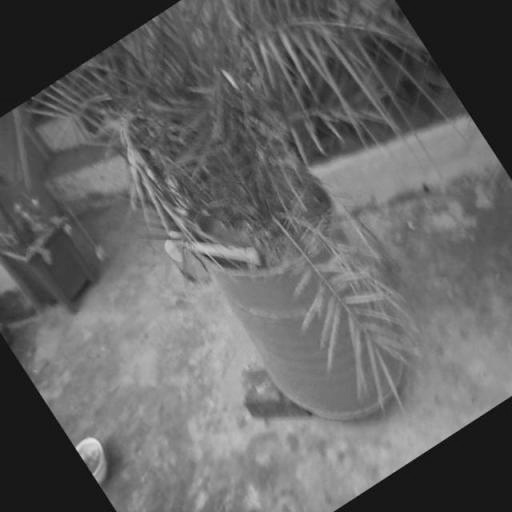mallet: (156, 194, 266, 304)
